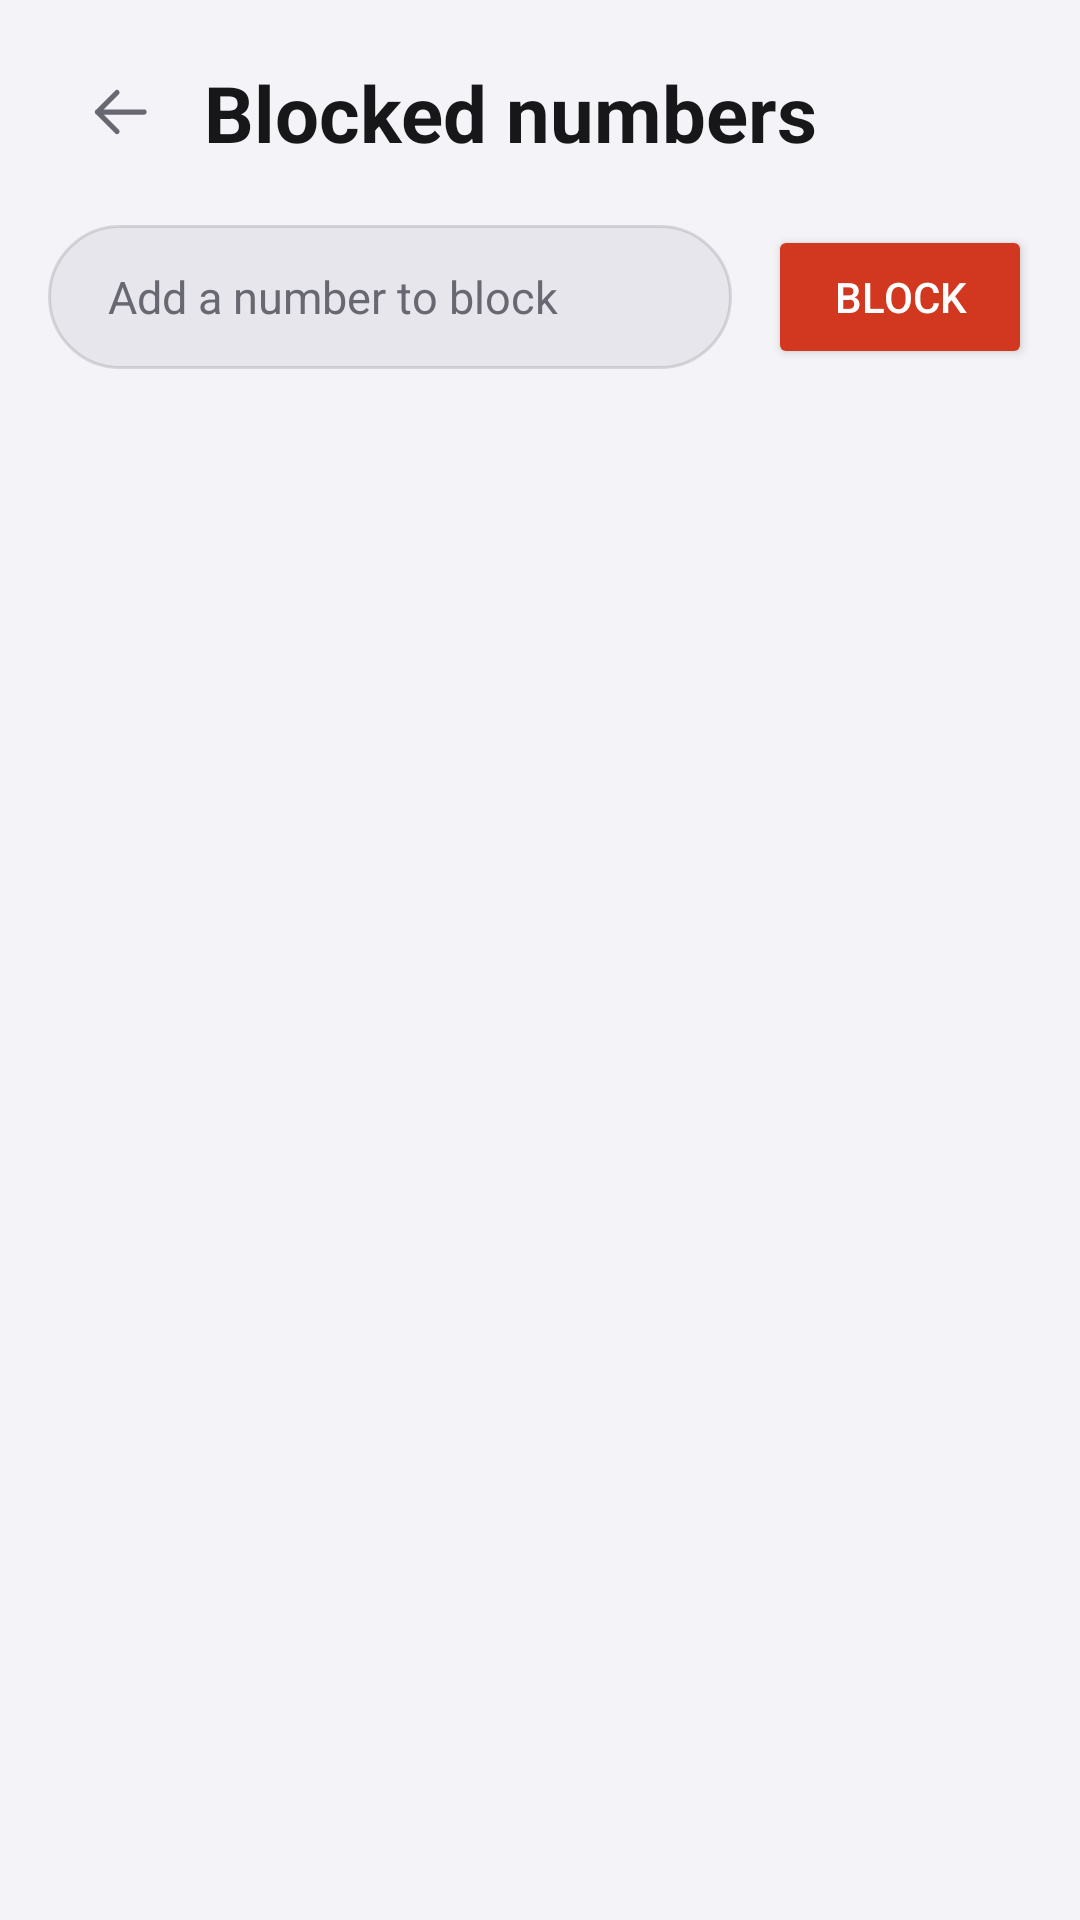

Screen size 1080px×1920px. Icon name, then its center in pixels as (x,y):
Back: (121,111)
